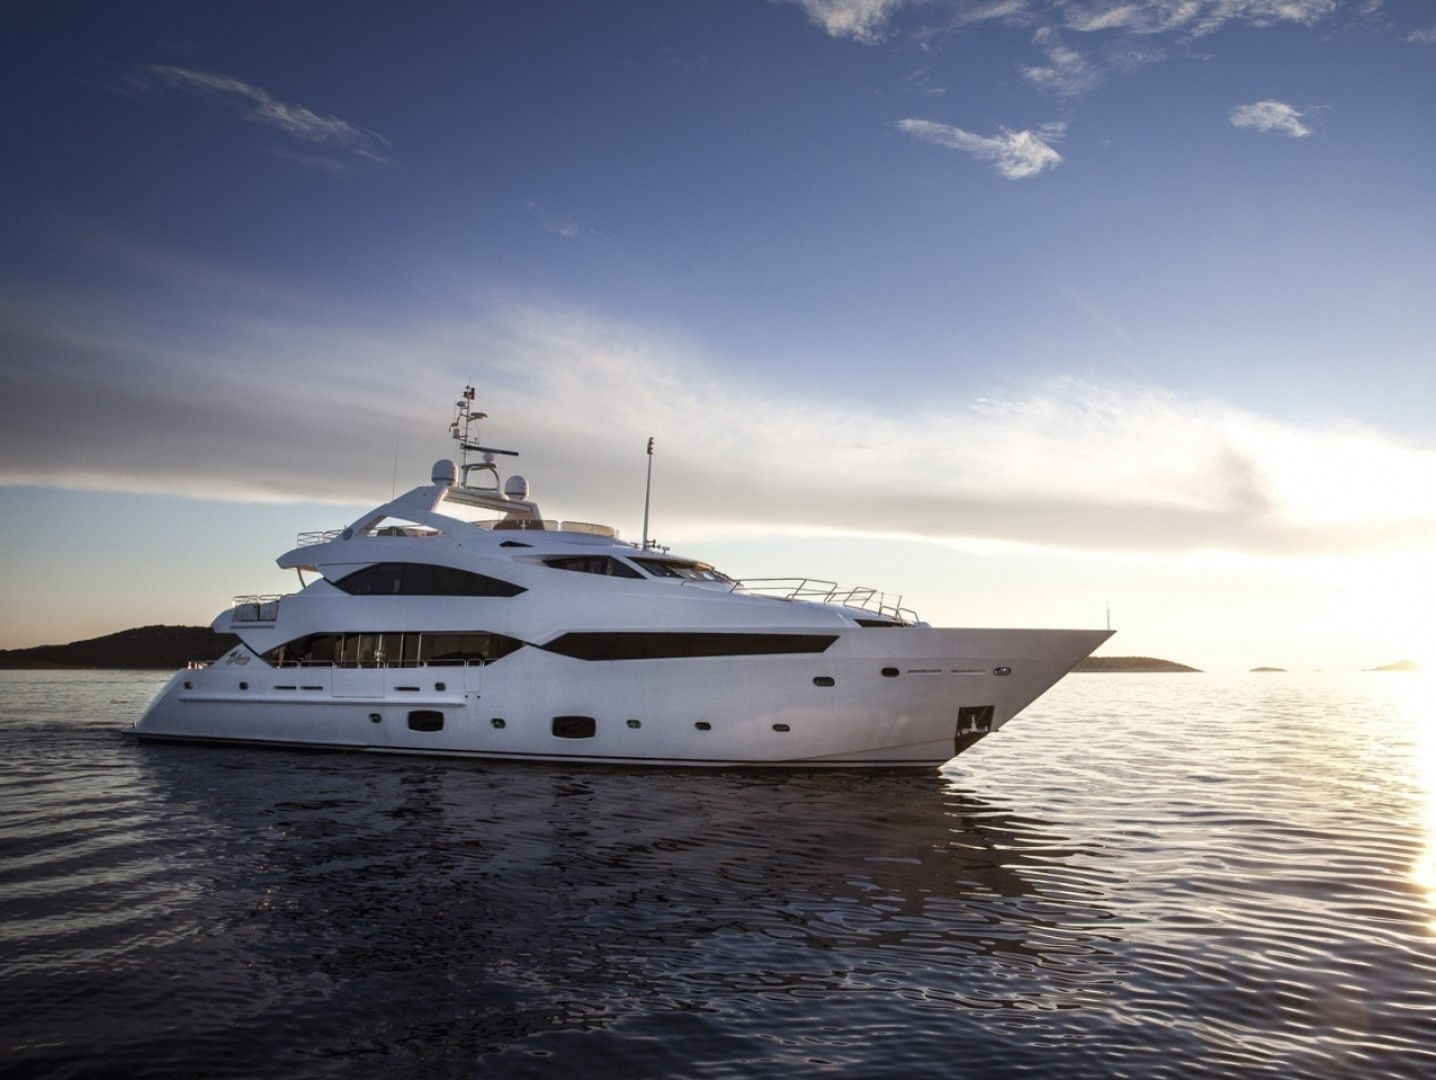yacht: (121, 378, 1137, 765)
